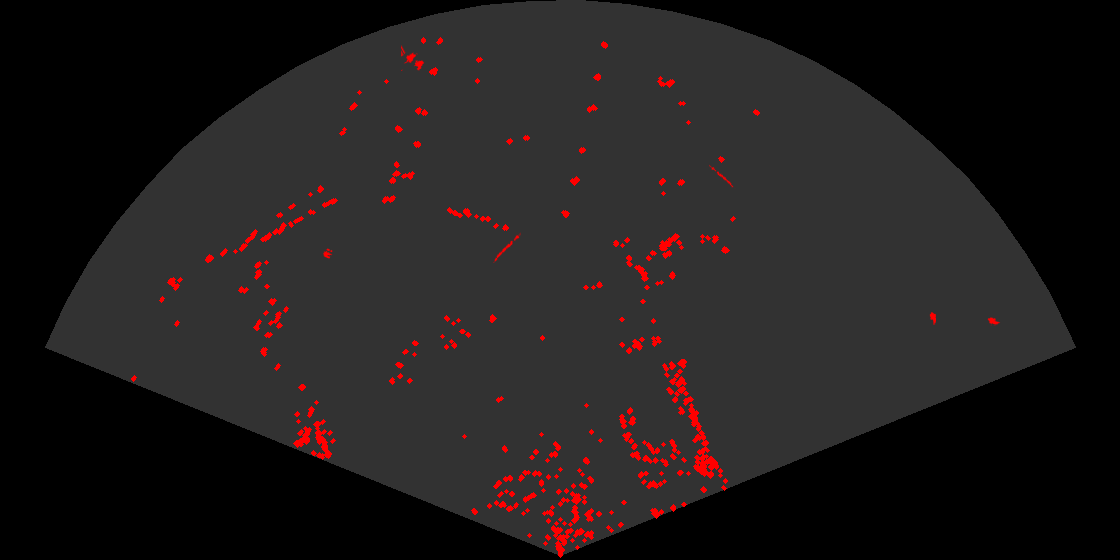AUV: (986, 316, 1001, 326), (928, 311, 936, 326)
ball: (322, 247, 334, 260)
cage: (401, 45, 426, 73)
chain: (491, 231, 521, 263), (709, 163, 737, 189)
